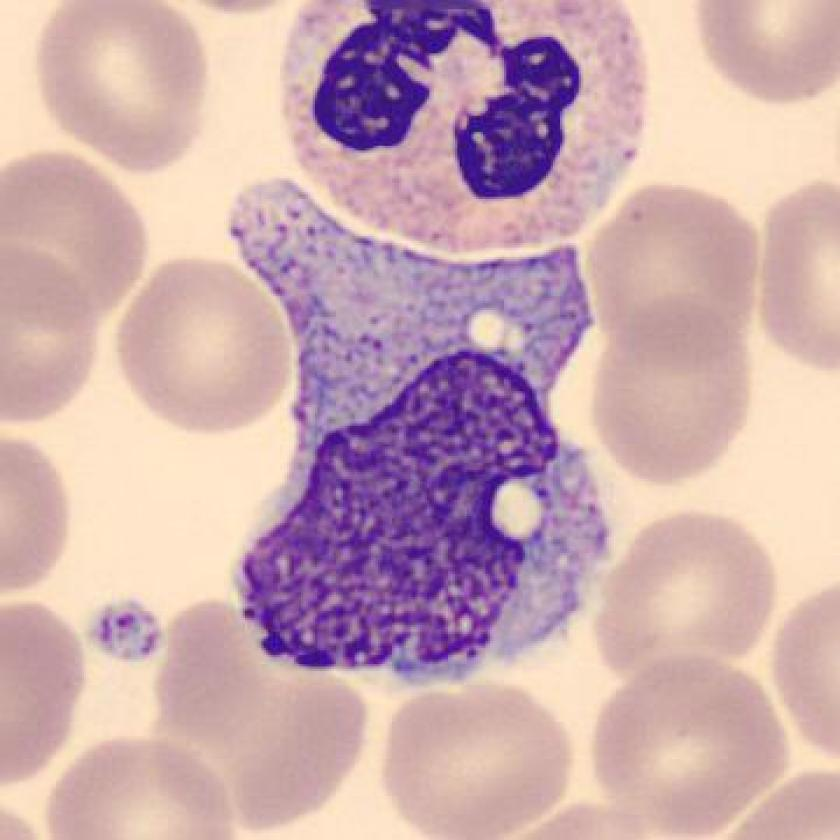monocyte: (197, 168, 650, 712)
